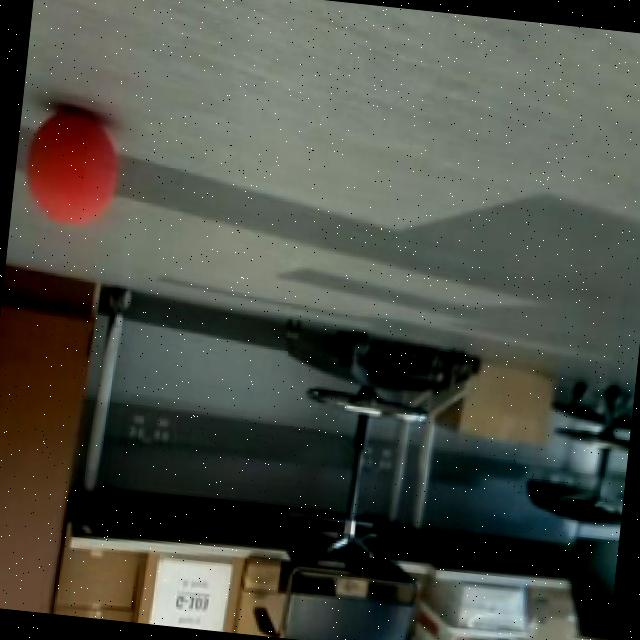ping-pong-ball: (15, 102, 126, 230)
